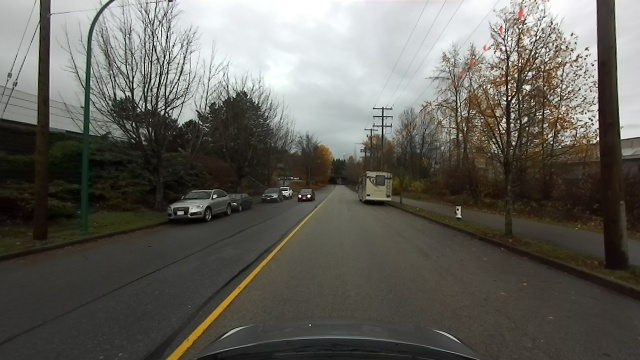car: (163, 186, 233, 222), (357, 170, 393, 205), (227, 194, 254, 211), (262, 188, 283, 203), (295, 188, 314, 200), (280, 186, 294, 200)
